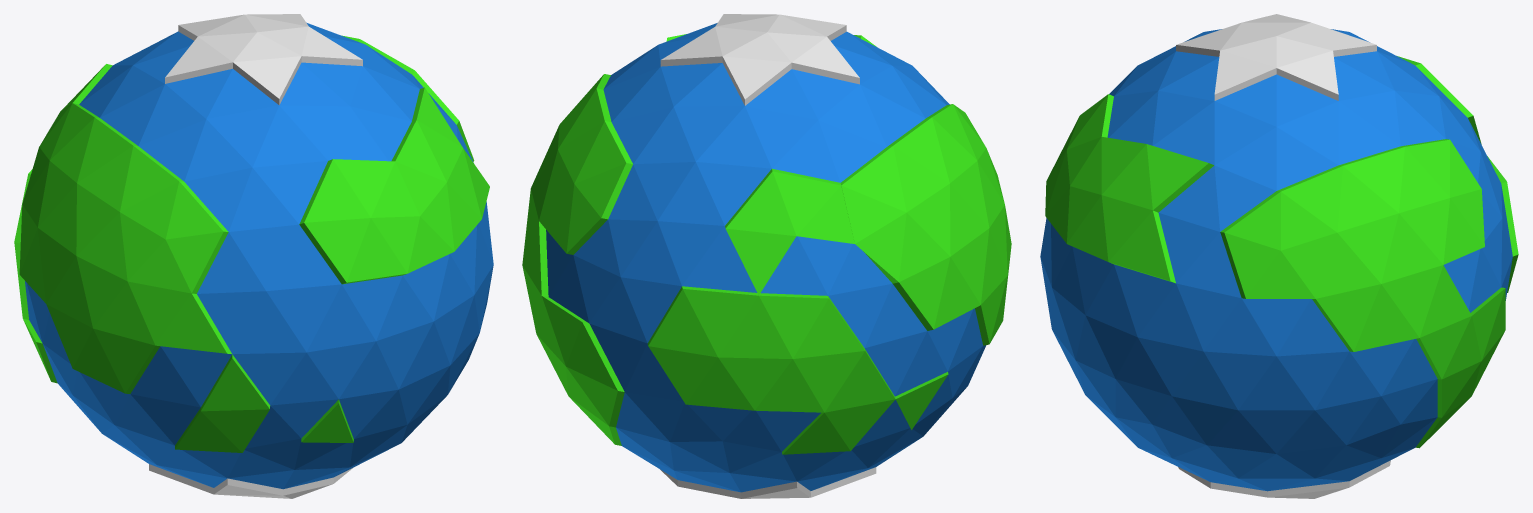
File: planet_element.fbx
3 views of the same model, side by side, from view 1: azimuth 30°, elevation 25°; view 2: azimuth 150°, elevation 25°; view 3: azimuth 270°, elevation 25° (orthographic).
Visible parts, largest first — view 1: Planet_Element; view 2: Planet_Element; view 3: Planet_Element.
Part boxes in pixels (x1,y1,x2,y2): Planet_Element: (14, 14, 493, 498); Planet_Element: (522, 14, 1011, 498); Planet_Element: (1040, 14, 1518, 498).
Bounding box in the file's own units: 203 × 207 × 202.
